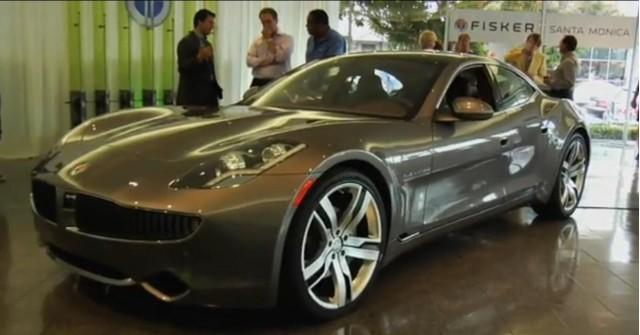Sedan: (28, 48, 591, 321)
